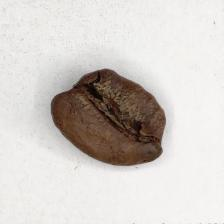NG: (55, 66, 132, 130)
